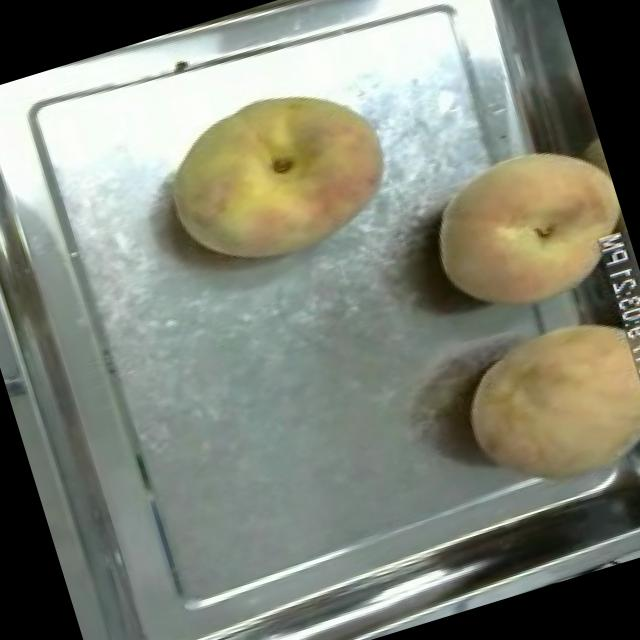Fruit: (143, 59, 411, 294), (405, 119, 640, 337), (438, 296, 640, 521)
